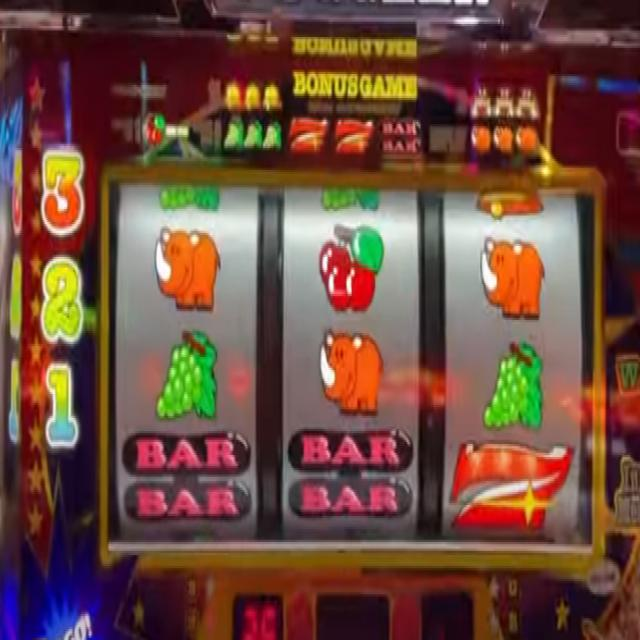bar: (288, 426, 412, 518), (121, 434, 252, 520), (382, 112, 422, 157)
bell: (474, 186, 544, 220), (220, 79, 243, 110), (263, 79, 281, 113), (243, 78, 262, 110)
cherry: (319, 220, 383, 312), (144, 113, 164, 146), (242, 122, 262, 152), (224, 118, 242, 151), (262, 122, 281, 150)
clown: (516, 85, 536, 124), (471, 86, 494, 118), (494, 85, 514, 118)
display: (110, 178, 596, 559)
elephant: (480, 234, 546, 322), (156, 223, 221, 311), (318, 328, 385, 412), (517, 122, 540, 154), (471, 124, 491, 154), (495, 124, 514, 152)
grape: (152, 331, 218, 425), (483, 340, 544, 429), (158, 180, 221, 212), (322, 186, 382, 213)
z: (452, 438, 574, 537), (333, 116, 373, 157), (289, 114, 325, 155)
